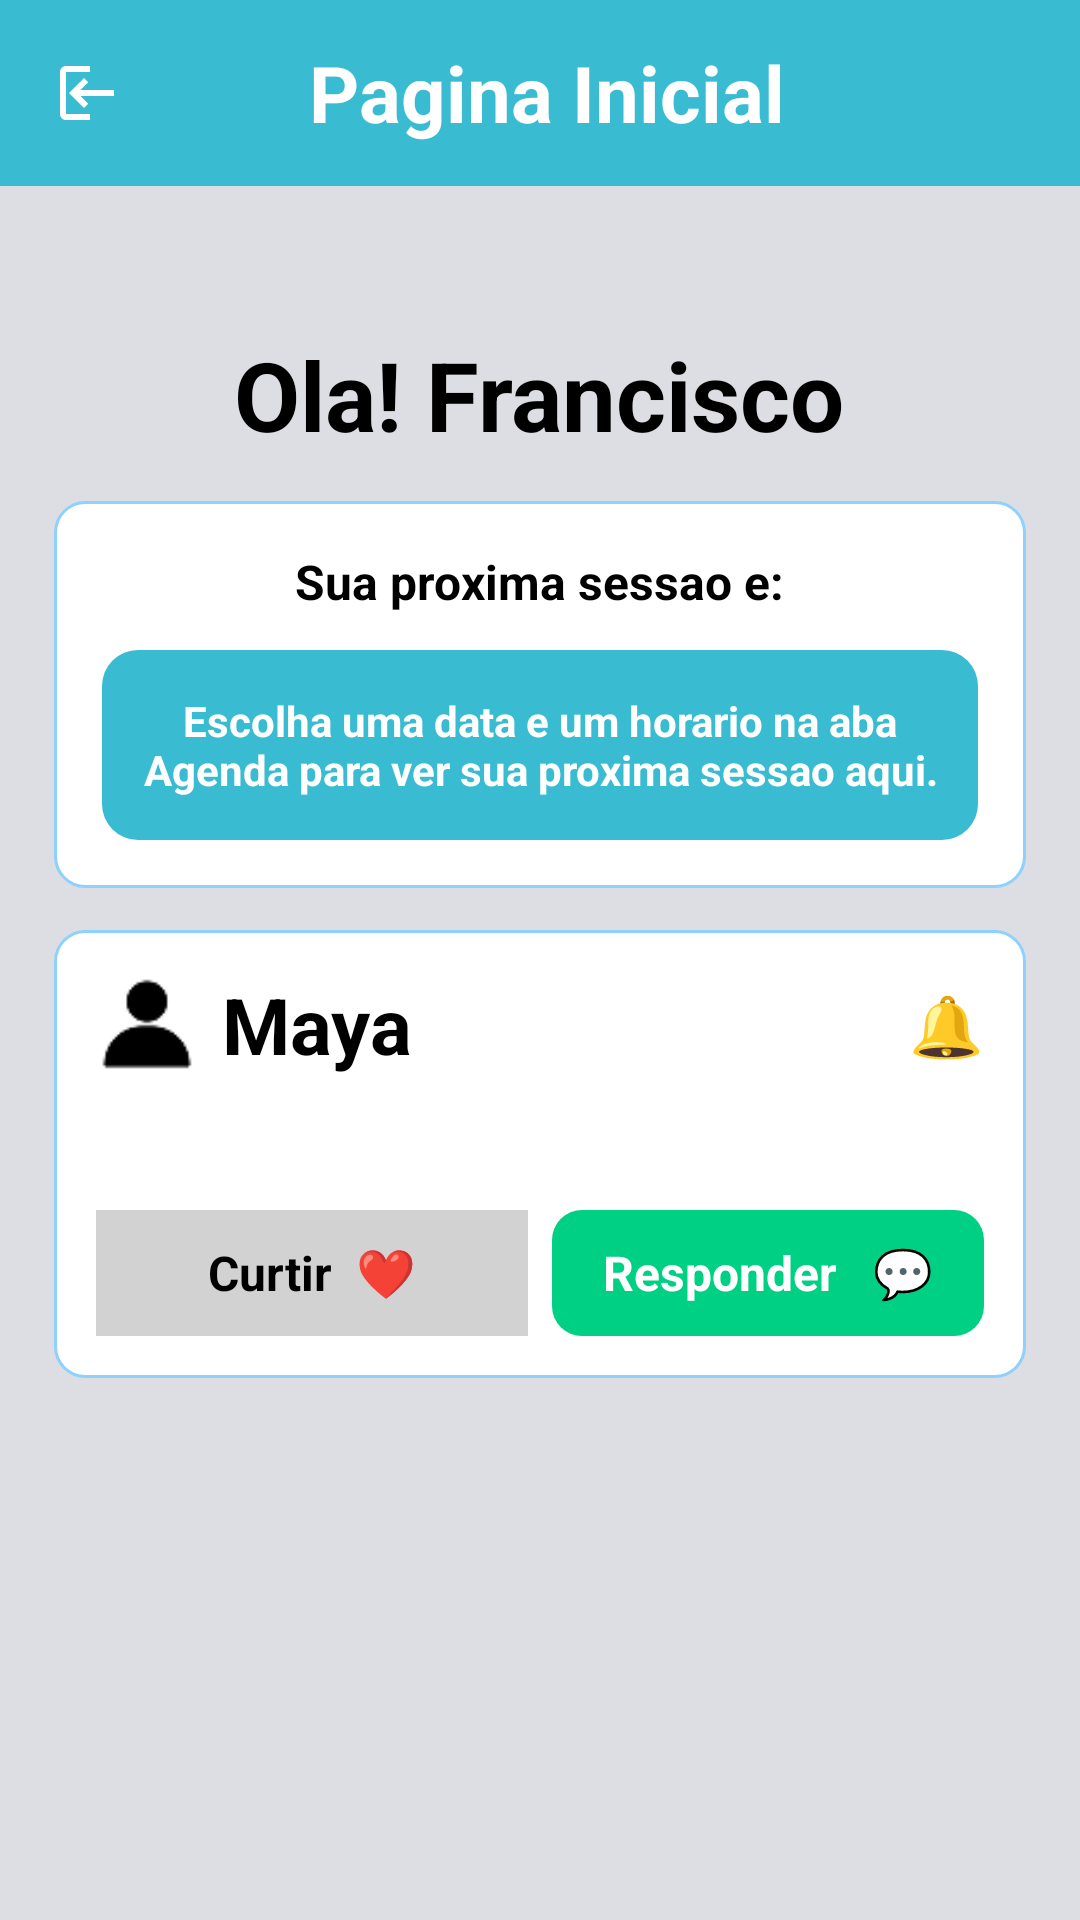

Where icons sit on this 1080 × 1920 app screen, as (x1, y1, x2, y2):
perfil: (102, 979, 192, 1069)
